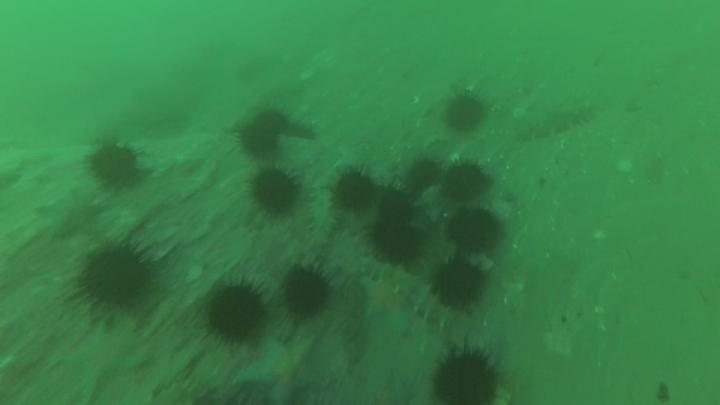echinus: (83, 247, 149, 306), (437, 353, 497, 405), (211, 284, 265, 340), (433, 258, 485, 312), (88, 142, 137, 194), (449, 210, 504, 254), (371, 222, 423, 267), (284, 271, 329, 316), (254, 167, 300, 211), (444, 165, 488, 203), (333, 171, 373, 211), (443, 96, 484, 134), (240, 128, 281, 159), (405, 160, 440, 194), (376, 191, 410, 218), (253, 109, 288, 130)
holothurian: (389, 274, 454, 327), (517, 108, 593, 142), (309, 176, 339, 245)
starfish: (238, 336, 313, 403), (65, 328, 144, 388), (37, 192, 103, 241), (338, 148, 366, 174)
